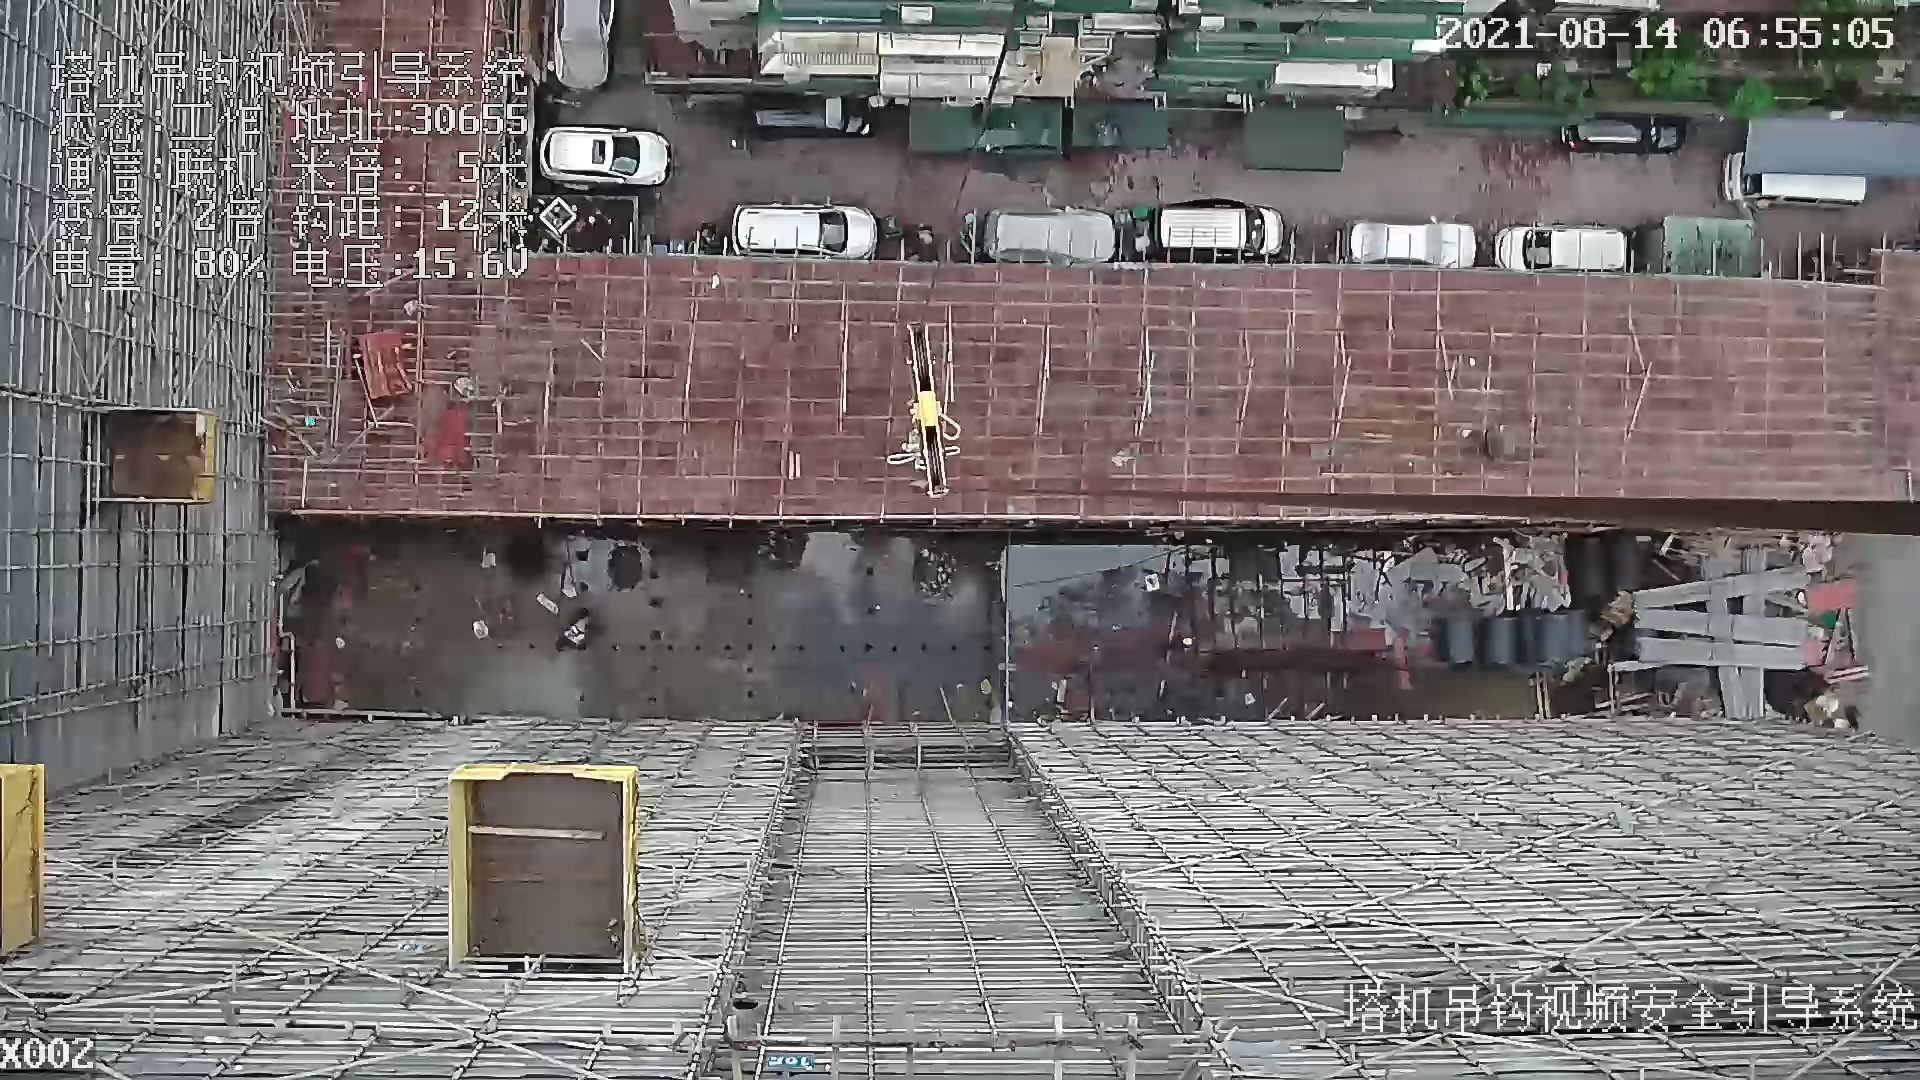hook: (897, 319, 968, 500)
rebar: (1633, 564, 1804, 611), (1635, 608, 1811, 646), (1640, 641, 1815, 671)
